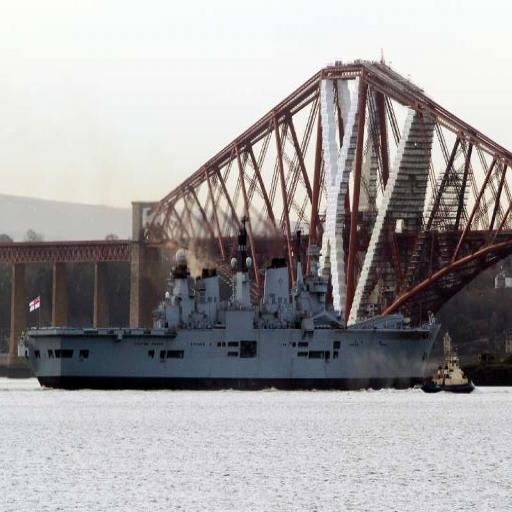Portanaves: (20, 207, 448, 393)
